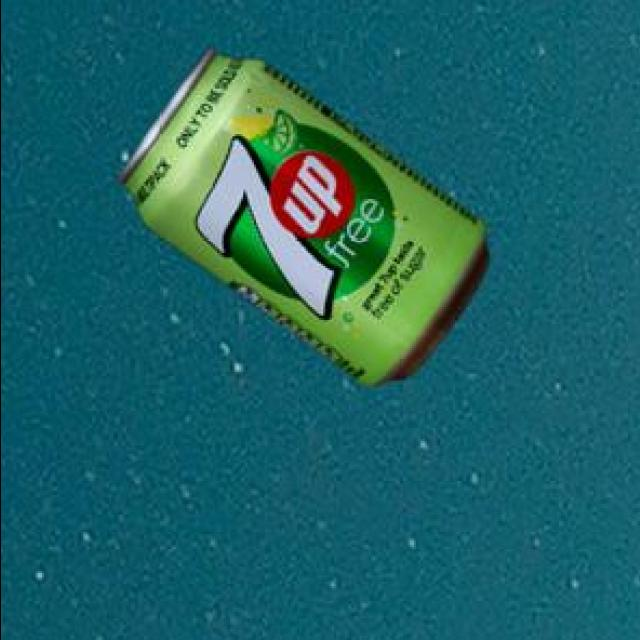logam: (120, 44, 492, 384)
